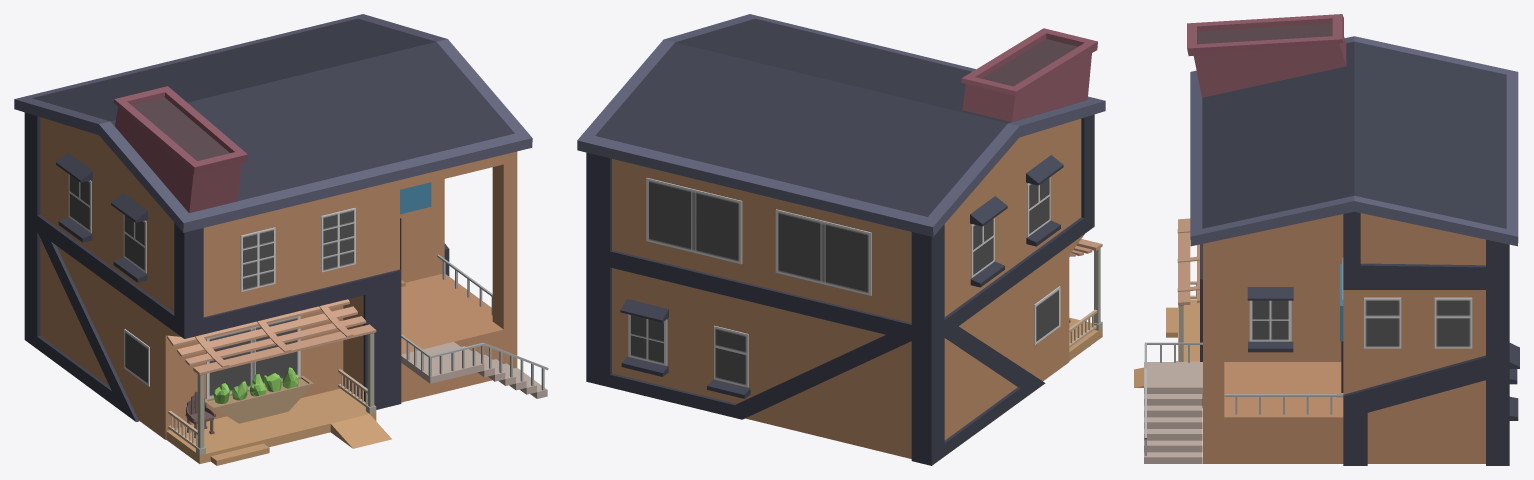
Rendered from house06_color03.fbx.
3 renders of one model, left to right at view 1: azimuth 30°, elevation 25°; view 2: azimuth 150°, elevation 25°; view 3: azimuth 270°, elevation 25°, orthographic. The views are drawn at different scales.
Parts seen in each view (by area): view 1: Cube.411, Cube.412, Cube.413; view 2: Cube.411, Cube.412; view 3: Cube.411, Cube.412.
Boxes of the visible parts, <box> form: Cube.411: <box>14,14,548,465</box>; Cube.412: <box>113,86,247,212</box>; Cube.413: <box>185,391,215,438</box>; Cube.411: <box>577,14,1105,465</box>; Cube.412: <box>961,28,1097,121</box>; Cube.411: <box>1134,36,1519,465</box>; Cube.412: <box>1187,14,1346,97</box>.
Size of the model in its own units: 1265 by 1042 by 1240.
